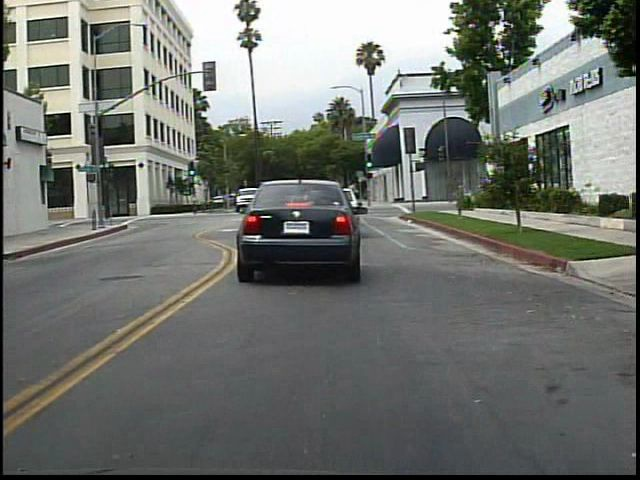person: (342, 176, 368, 220)
